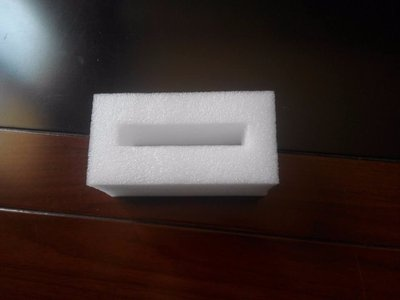5/可回收垃圾/泡沫: (86, 90, 281, 197)
